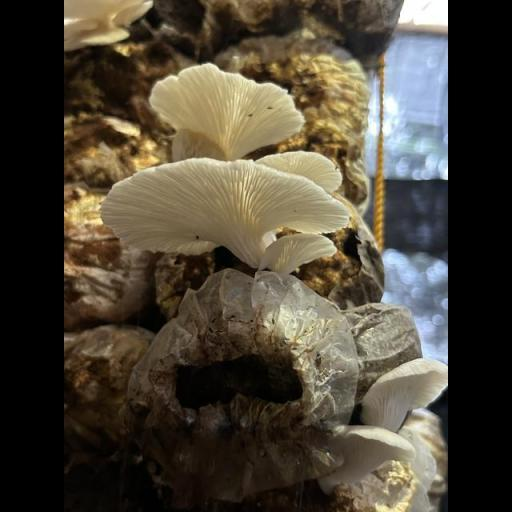White Oyster Mushroom: (103, 59, 355, 278)
